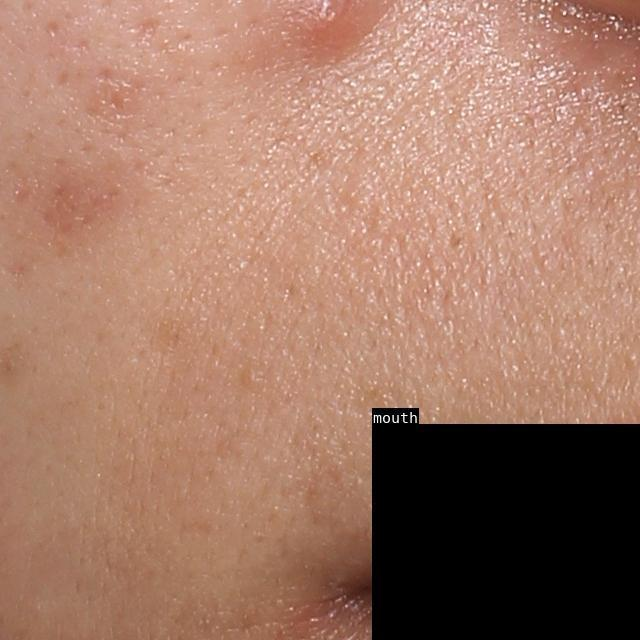comedo: (240, 365, 266, 395)
